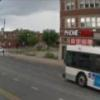buses: (62, 43, 100, 93)
